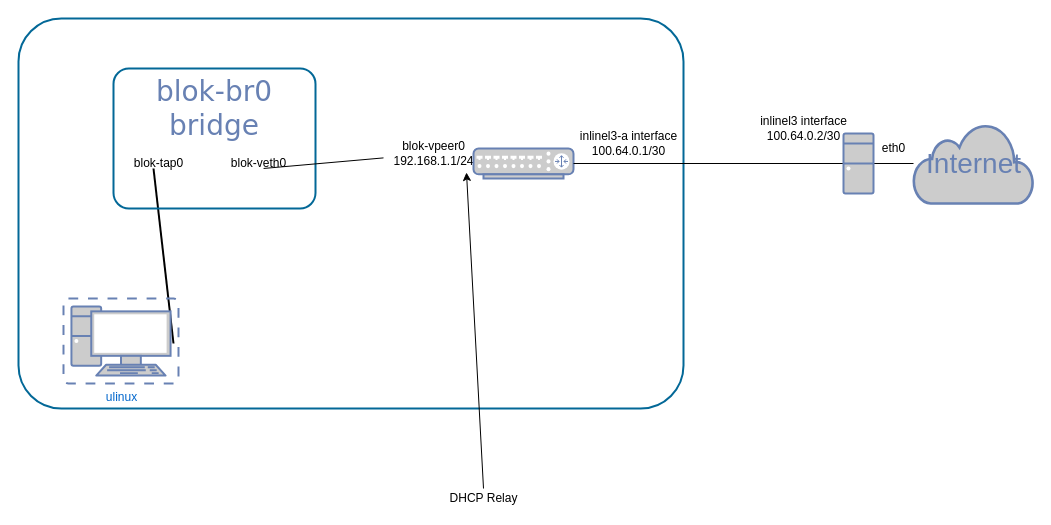
This 1051x525 diagram has some shape labels left out. The box of each missing label's shape, as (x1, y1, x2, y2) in pixels:
inlinel3 network namespace: (17, 17, 684, 409)
PacketFence: (842, 132, 874, 194)
